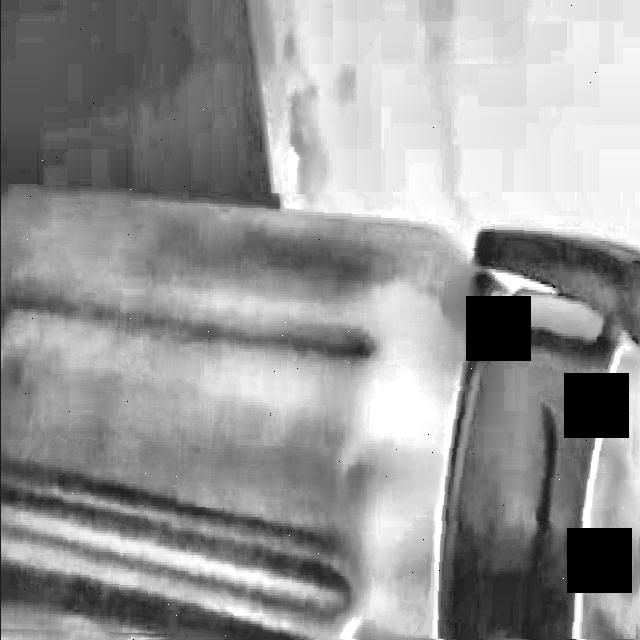bottle: (1, 184, 640, 640)
